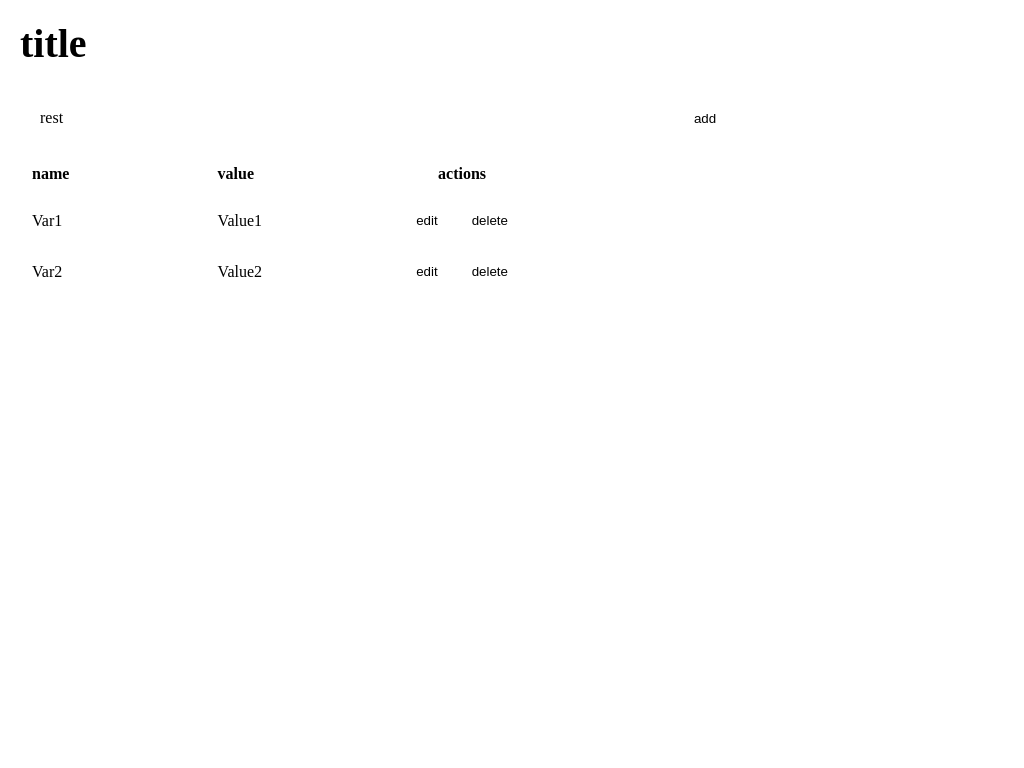
Test: VariablesTable Component › opens the "Add Variable" modal when Add button is clicked
Click the button "add" at point(705, 118), box [630,99,780,137]
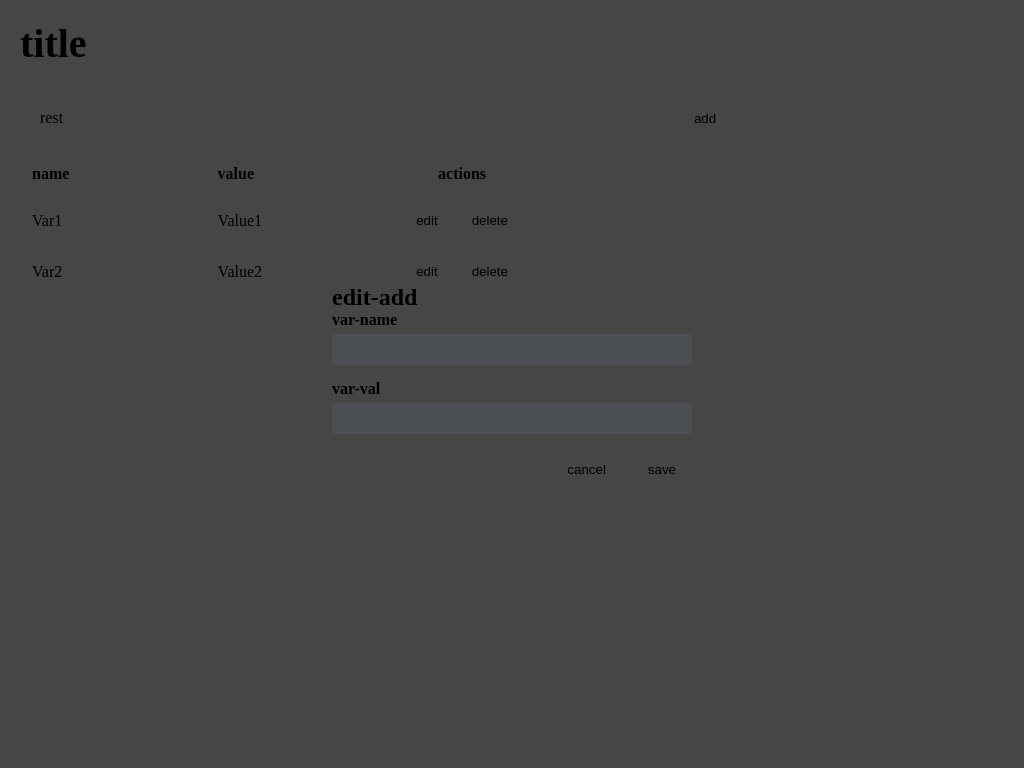
Expected: the heading "edit-add" is shown, [332,284,417,310]
Expected: the button "save" is shown, [632,454,692,484]
Expected: the button "cancel" is shown, [551,454,622,484]
